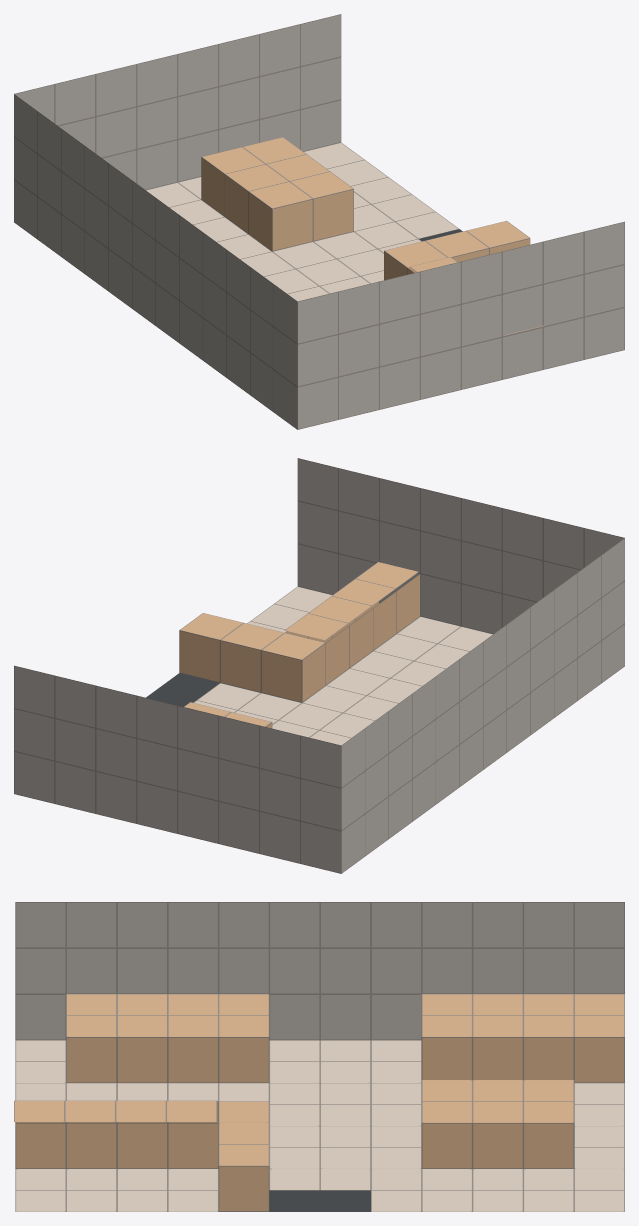
The model's file is Grocery.dae.
The picture shows the model from 3 angles, top to bottom: view 1: azimuth 30°, elevation 25°; view 2: azimuth 150°, elevation 25°; view 3: azimuth 270°, elevation 25°; orthographic projection. The views are drawn at different scales.
Parts seen in each view (by area): view 1: Grocery-col; view 2: Grocery-col; view 3: Grocery-col.
Part boxes in pixels (x1,y1,x2,y2): Grocery-col: (14, 14, 624, 429); Grocery-col: (14, 458, 624, 873); Grocery-col: (14, 902, 624, 1211).
Bounding box in the file's own units: 7.75 × 11.65 × 2.91.
Materials: 1 (1 with a texture image).
